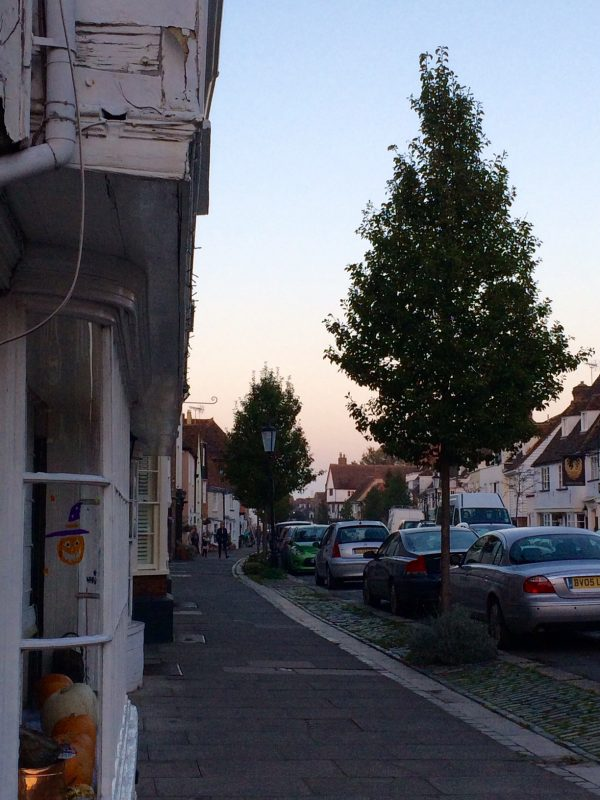tree: (321, 41, 596, 624), (219, 362, 317, 570)
